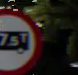Heavy Vehicles: (0, 2, 44, 74)
